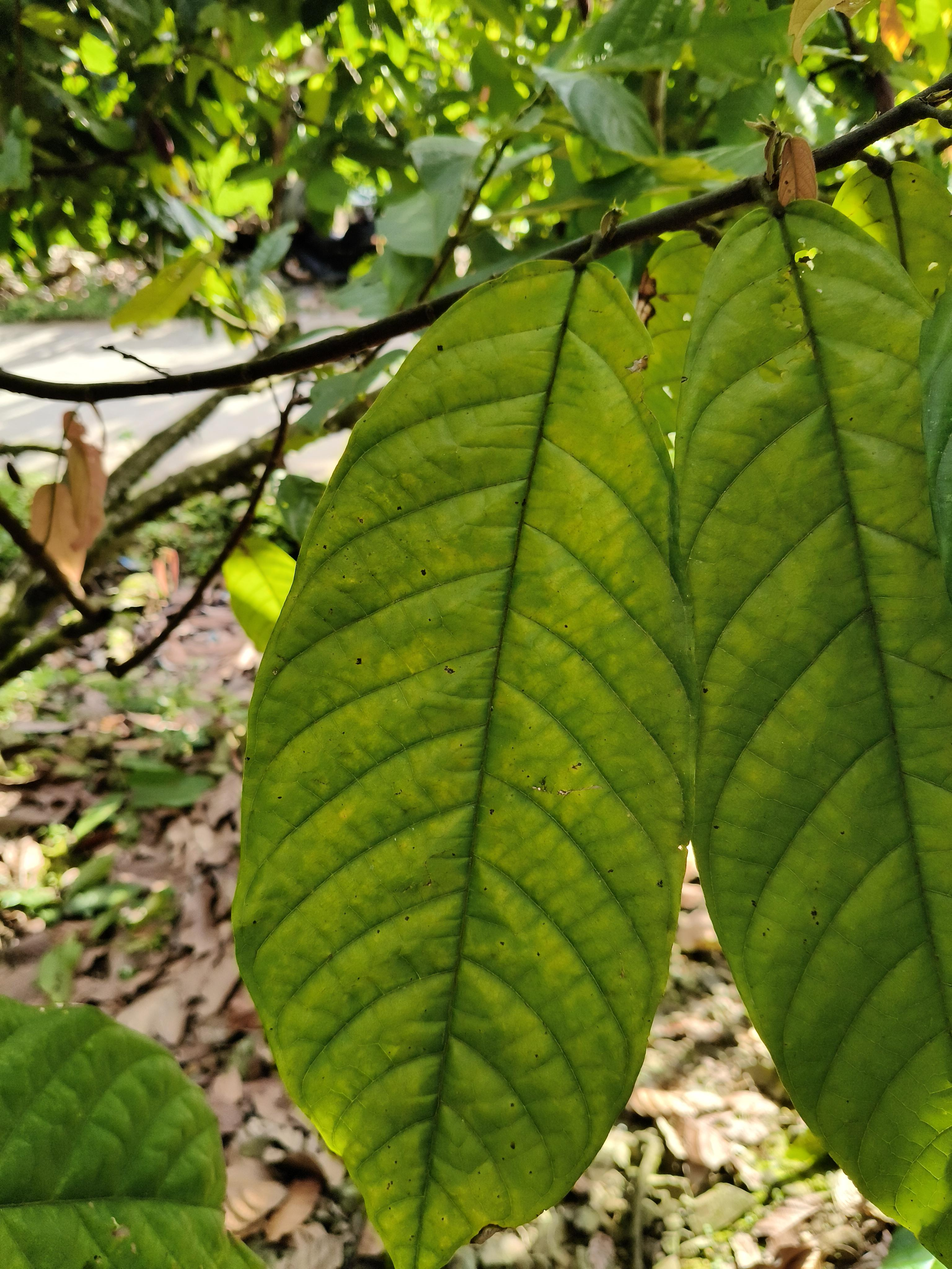deficiencia_potasio: (236, 260, 703, 1269)
